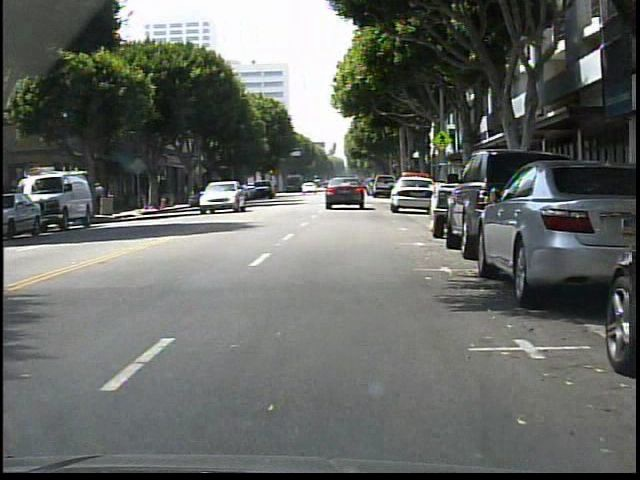person: (90, 177, 109, 216)
